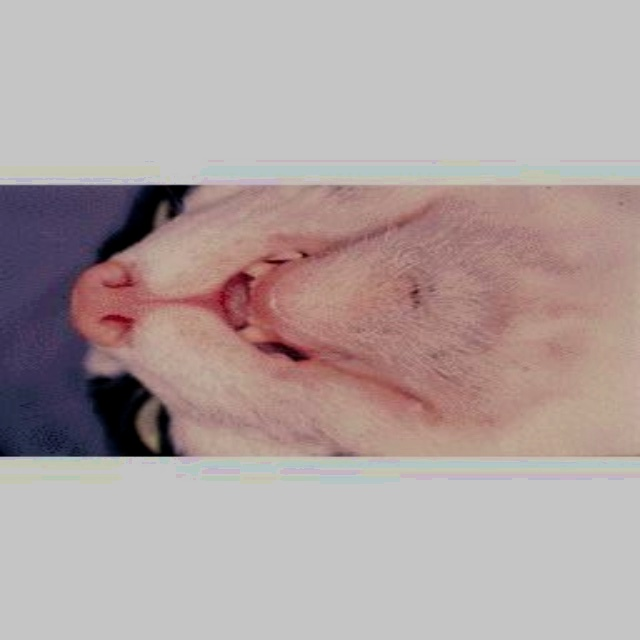acne: (394, 280, 445, 312)
